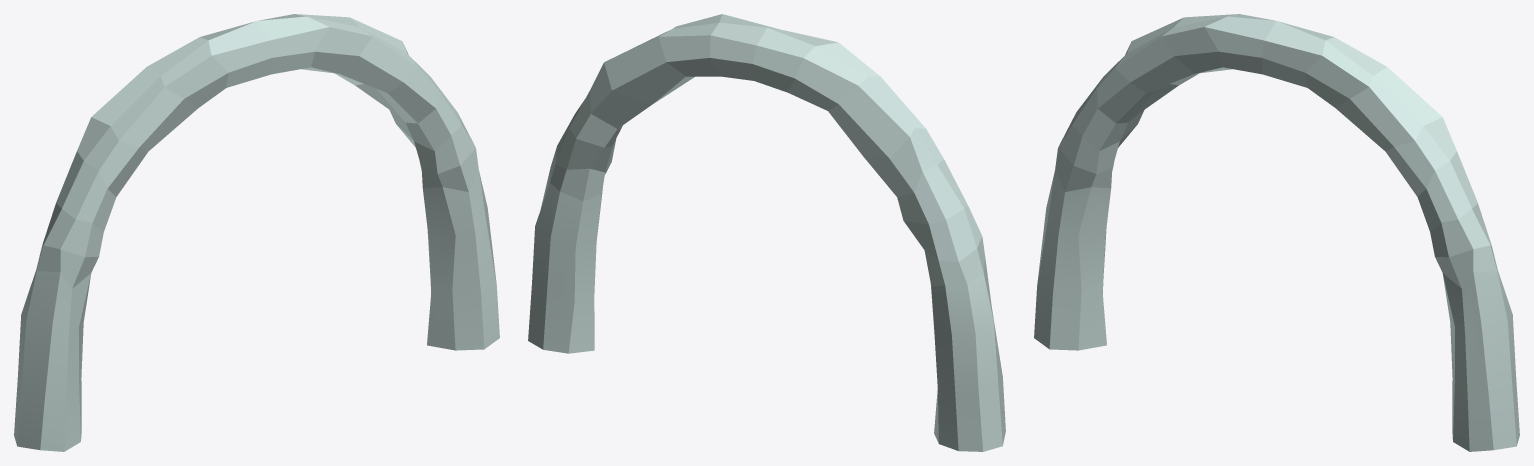
Rendered from Boulder_Obstacle_Arch.fbx.
The picture shows the model from 3 angles, left to right: view 1: azimuth 30°, elevation 25°; view 2: azimuth 150°, elevation 25°; view 3: azimuth 330°, elevation 25°; orthographic projection.
Parts seen in each view (by area): view 1: BoulderObstacle_Arch; view 2: BoulderObstacle_Arch; view 3: BoulderObstacle_Arch.
Part boxes in pixels (box(x1,y1,x2,y2)): BoulderObstacle_Arch: box(14, 14, 499, 451); BoulderObstacle_Arch: box(528, 14, 1005, 451); BoulderObstacle_Arch: box(1034, 14, 1519, 451).
Bounding box in the file's own units: 22.97 × 16.87 × 2.82.
